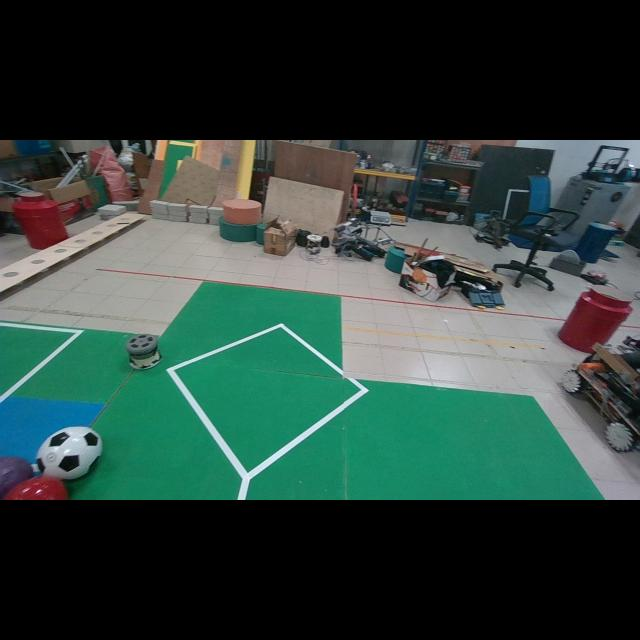P: (0, 456, 32, 499)
R: (4, 475, 68, 500)
